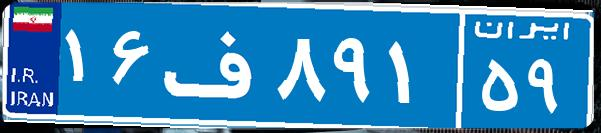1: (385, 28, 445, 110), (57, 26, 110, 107)
5: (475, 38, 525, 113)
6: (110, 28, 158, 105)
8: (273, 28, 330, 110)
9: (330, 28, 385, 110), (525, 38, 570, 115)
ف: (158, 15, 273, 115)
